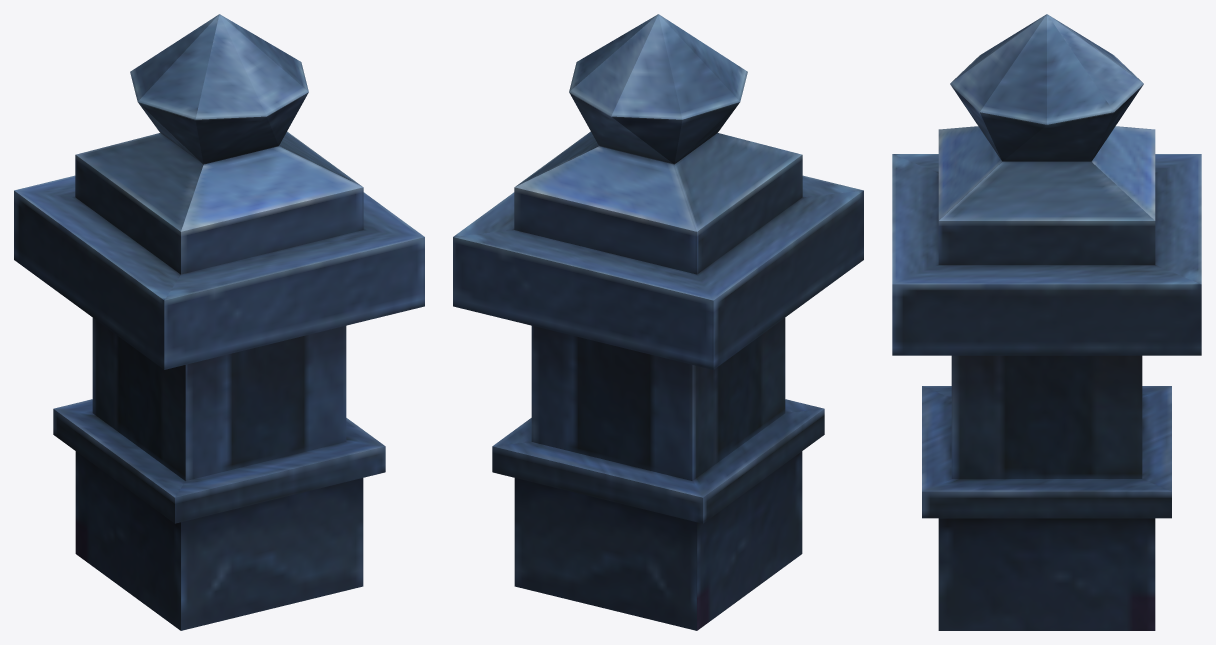
The model's file is deng01.FBX.
3 renders of one model, left to right at view 1: azimuth 30°, elevation 25°; view 2: azimuth 150°, elevation 25°; view 3: azimuth 270°, elevation 25°, orthographic. The views are drawn at different scales.
Parts seen in each view (by area): view 1: deng01; view 2: deng01; view 3: deng01.
Boxes of the visible parts, x1,y1,x2,y2 form: deng01: (14,14,424,630); deng01: (453,14,863,630); deng01: (892,14,1201,630).
Size of the model in its own units: 82.37 by 168 by 82.37.
